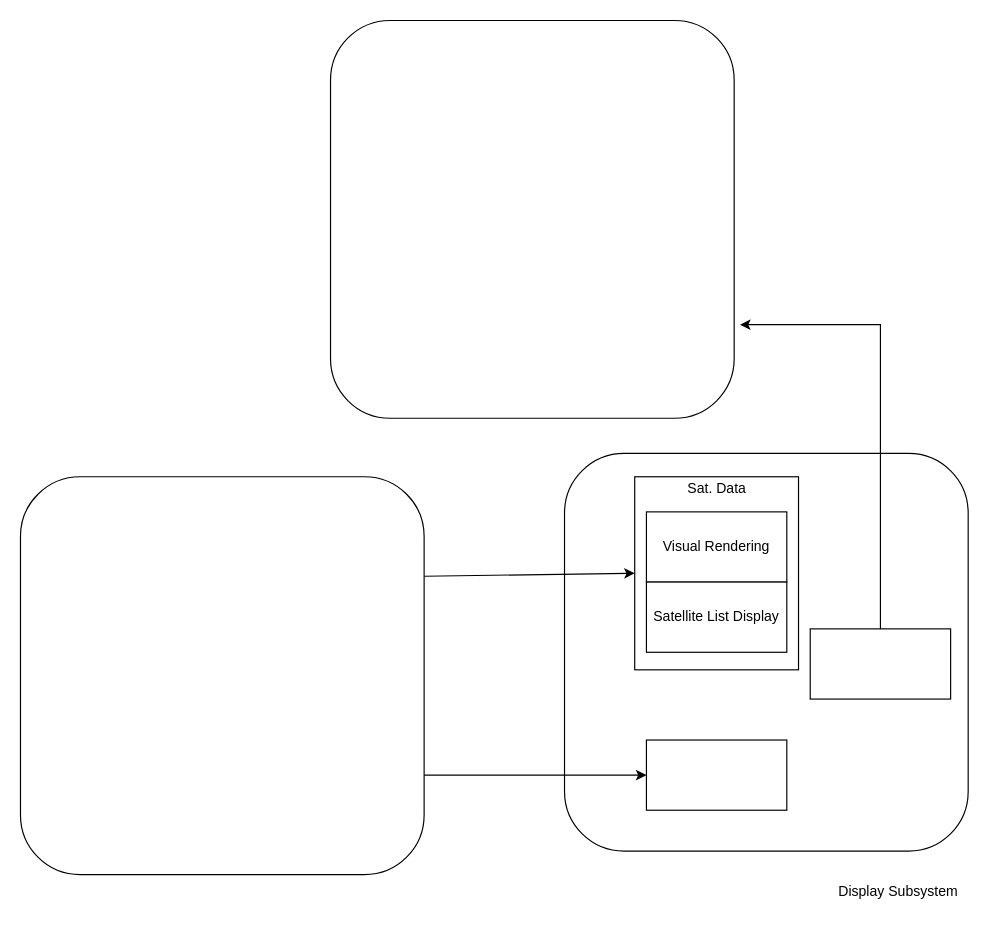
Some shapes in this 994 by 930 pixel diagram are drawn without their labels. The shapes that lost their labels are listed below. From the top down, each one's box as (x1, y1, x2, y2) in pixels, then its label:
(809, 628, 951, 699): Manual Control
(645, 739, 787, 810): Receiver Display
